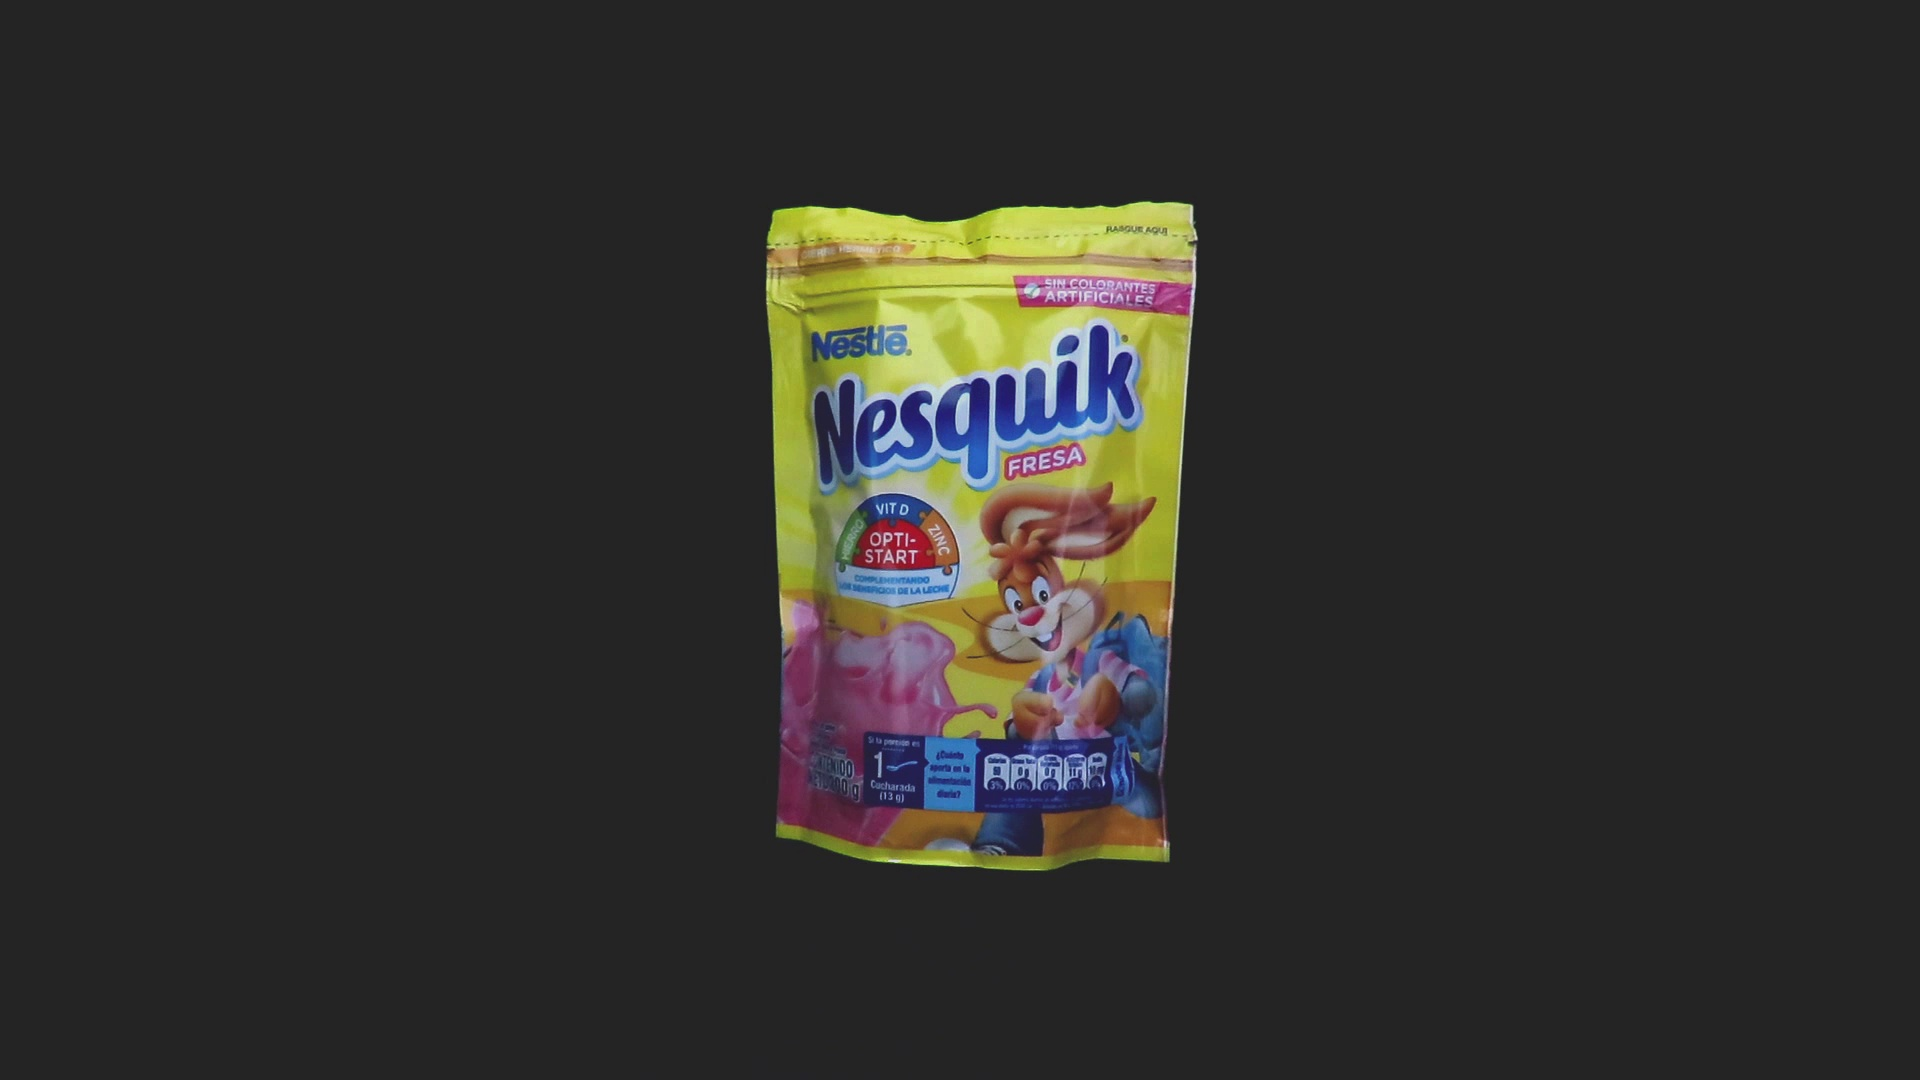COL0170305DYP20000: (761, 196, 1204, 877)
